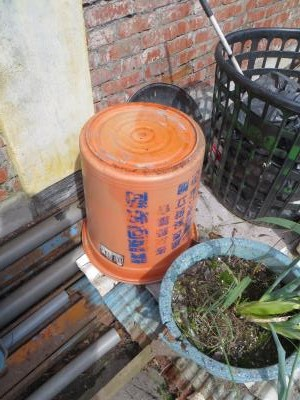bucket: (73, 100, 207, 291)
